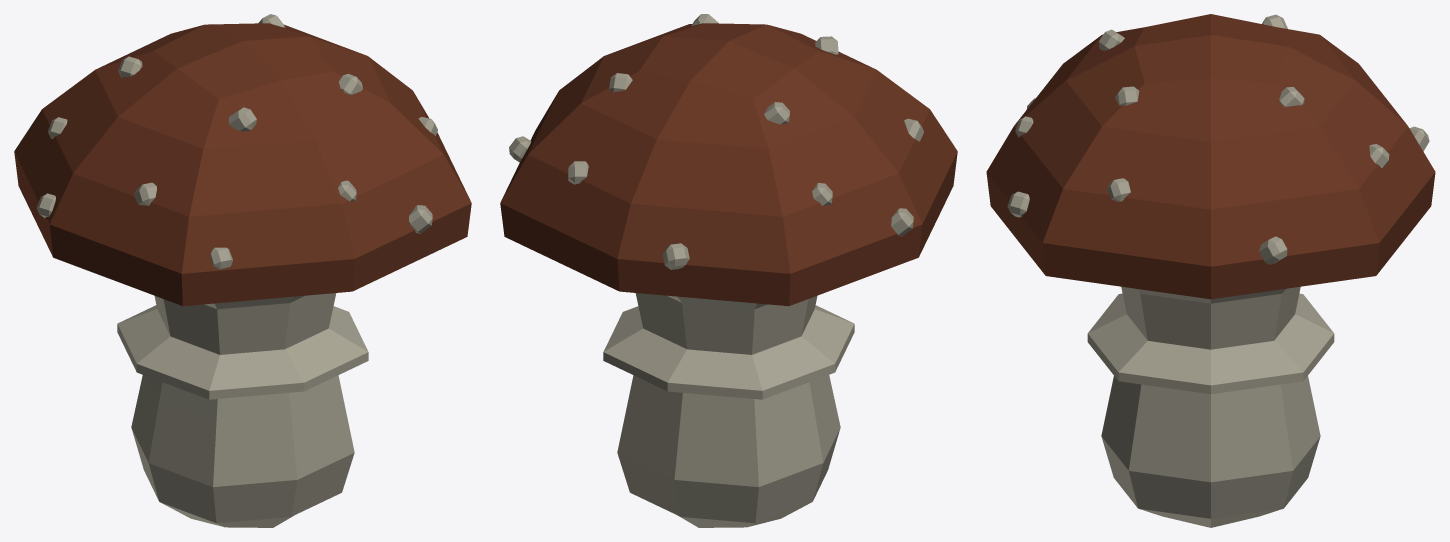
Rendered from Mushroom_3.glb.
3 views of the same model, side by side, from view 1: azimuth 30°, elevation 25°; view 2: azimuth 150°, elevation 25°; view 3: azimuth 270°, elevation 25° (orthographic).
Visible parts, largest first — view 1: Mushroom_3; view 2: Mushroom_3; view 3: Mushroom_3.
Boxes of the visible parts, x1,y1,x2,y2 form: Mushroom_3: (14,14,471,527); Mushroom_3: (500,14,957,527); Mushroom_3: (986,14,1435,527).
Size of the model in its own units: 0.2449 by 0.2857 by 0.2444.
